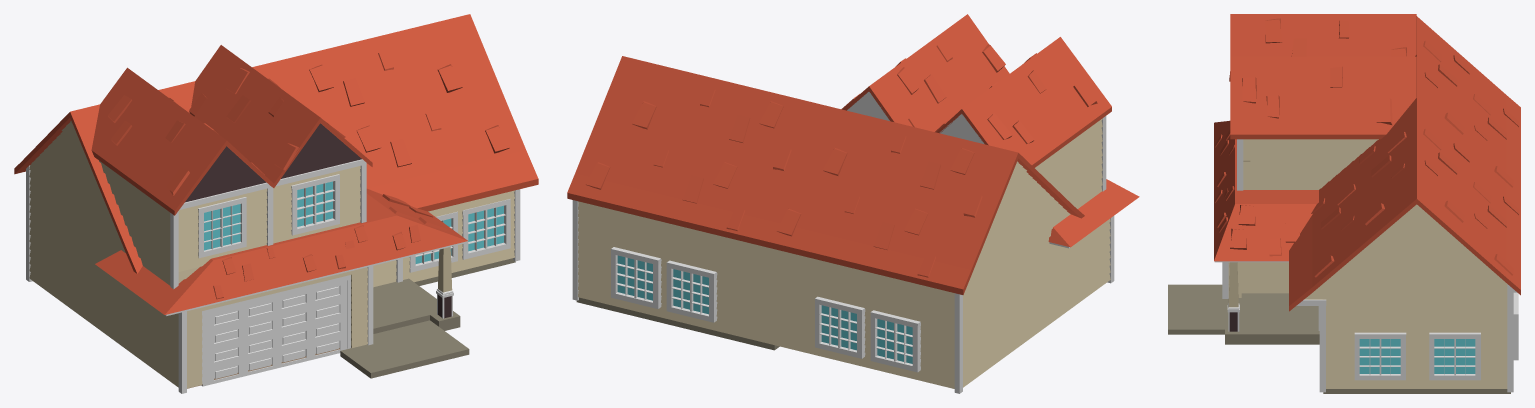
The model's file is house.glb.
3 views of the same model, side by side, from view 1: azimuth 30°, elevation 25°; view 2: azimuth 150°, elevation 25°; view 3: azimuth 270°, elevation 25° (orthographic). The views are drawn at different scales.
Visible parts, largest first — view 1: Cube.679; view 2: Cube.679; view 3: Cube.679.
Part boxes in pixels (box(x1,y1,x2,y2)): Cube.679: box(14, 14, 538, 393); Cube.679: box(567, 14, 1139, 393); Cube.679: box(1168, 14, 1520, 393).
Size of the model in its own units: 23.65 by 13.09 by 18.57.
